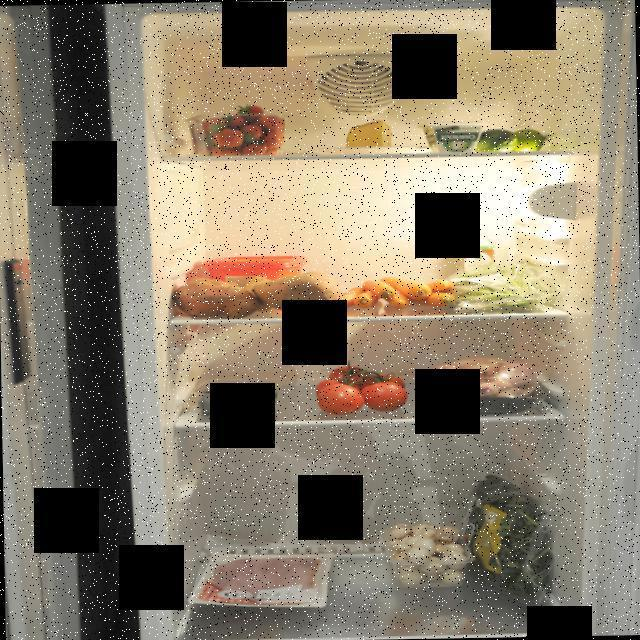Beans: (442, 256, 558, 316)
Berries strawberries/blueberries: (183, 100, 291, 160), (195, 384, 283, 417)
Butter stick/block: (195, 252, 314, 298)
Carrot: (336, 271, 462, 314)
Cheese: (422, 124, 488, 156), (344, 119, 397, 150)
Chicken: (419, 354, 553, 416)
Cream: (458, 236, 498, 280)
Ham: (197, 550, 326, 604)
Lime: (468, 126, 552, 155)
Mushroom: (380, 522, 469, 596)
Spinach bagged/loose: (461, 473, 556, 616)
Sweet Potato: (165, 270, 342, 320)
Tomato: (312, 361, 411, 418)
